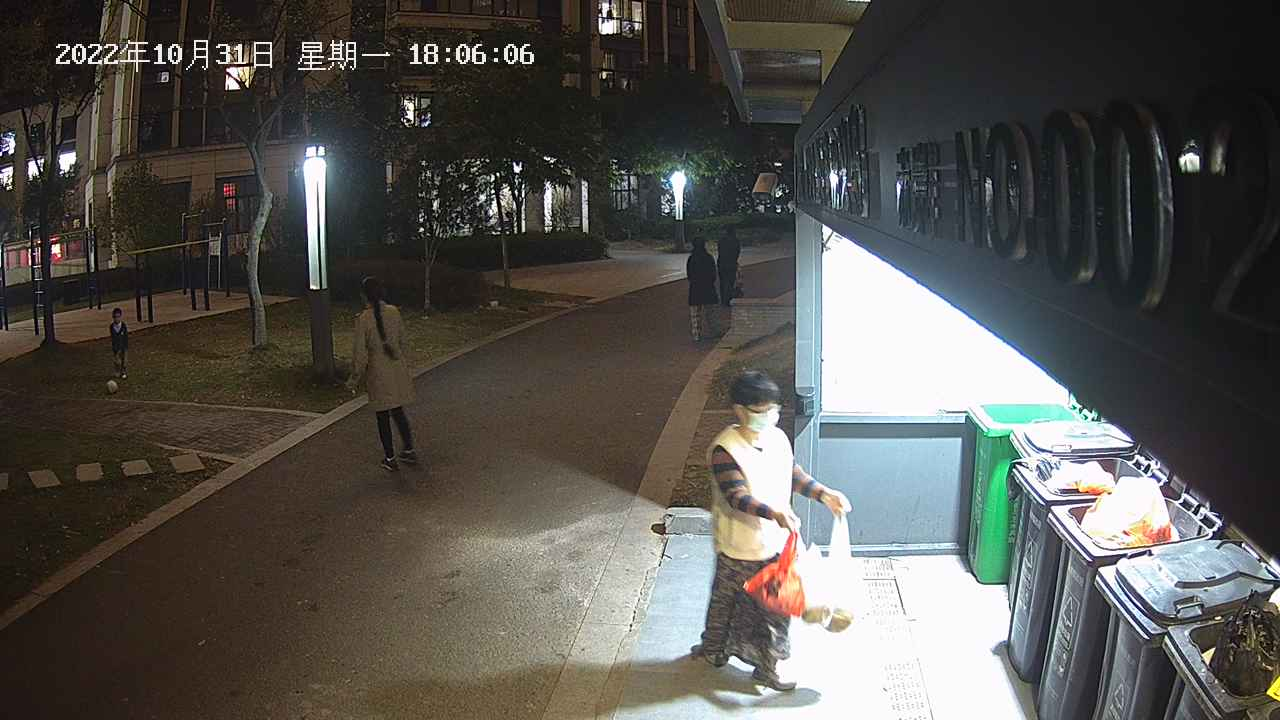garbage-bag: (806, 509, 862, 632), (743, 528, 806, 622)
person: (700, 369, 854, 692), (343, 272, 420, 473)
